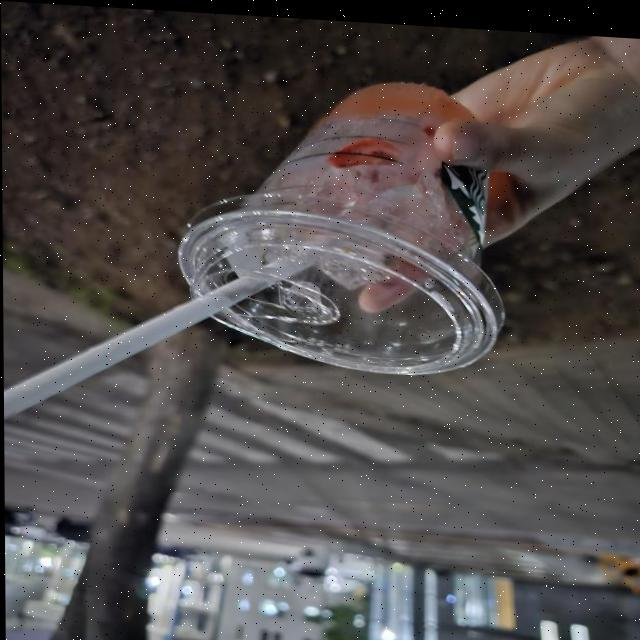cup: (169, 56, 514, 386)
